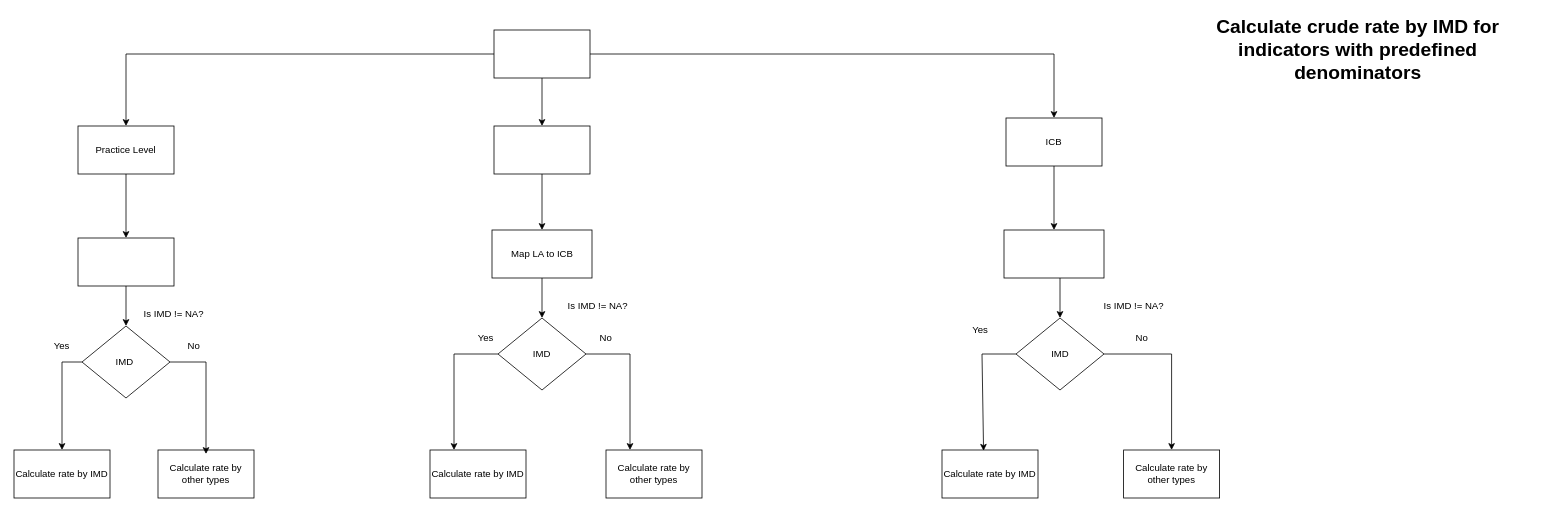
Image size: 1548x512. Some labels were removed from this diagram. Each missing label, with the centre of its shape:
"Indicator Level" goes at [541,53].
"Local Authority" goes at [541,149].
"Map Practice to PCN, Locality, ICB" goes at [125,261].
"No aggregration" goes at [1053,253].
